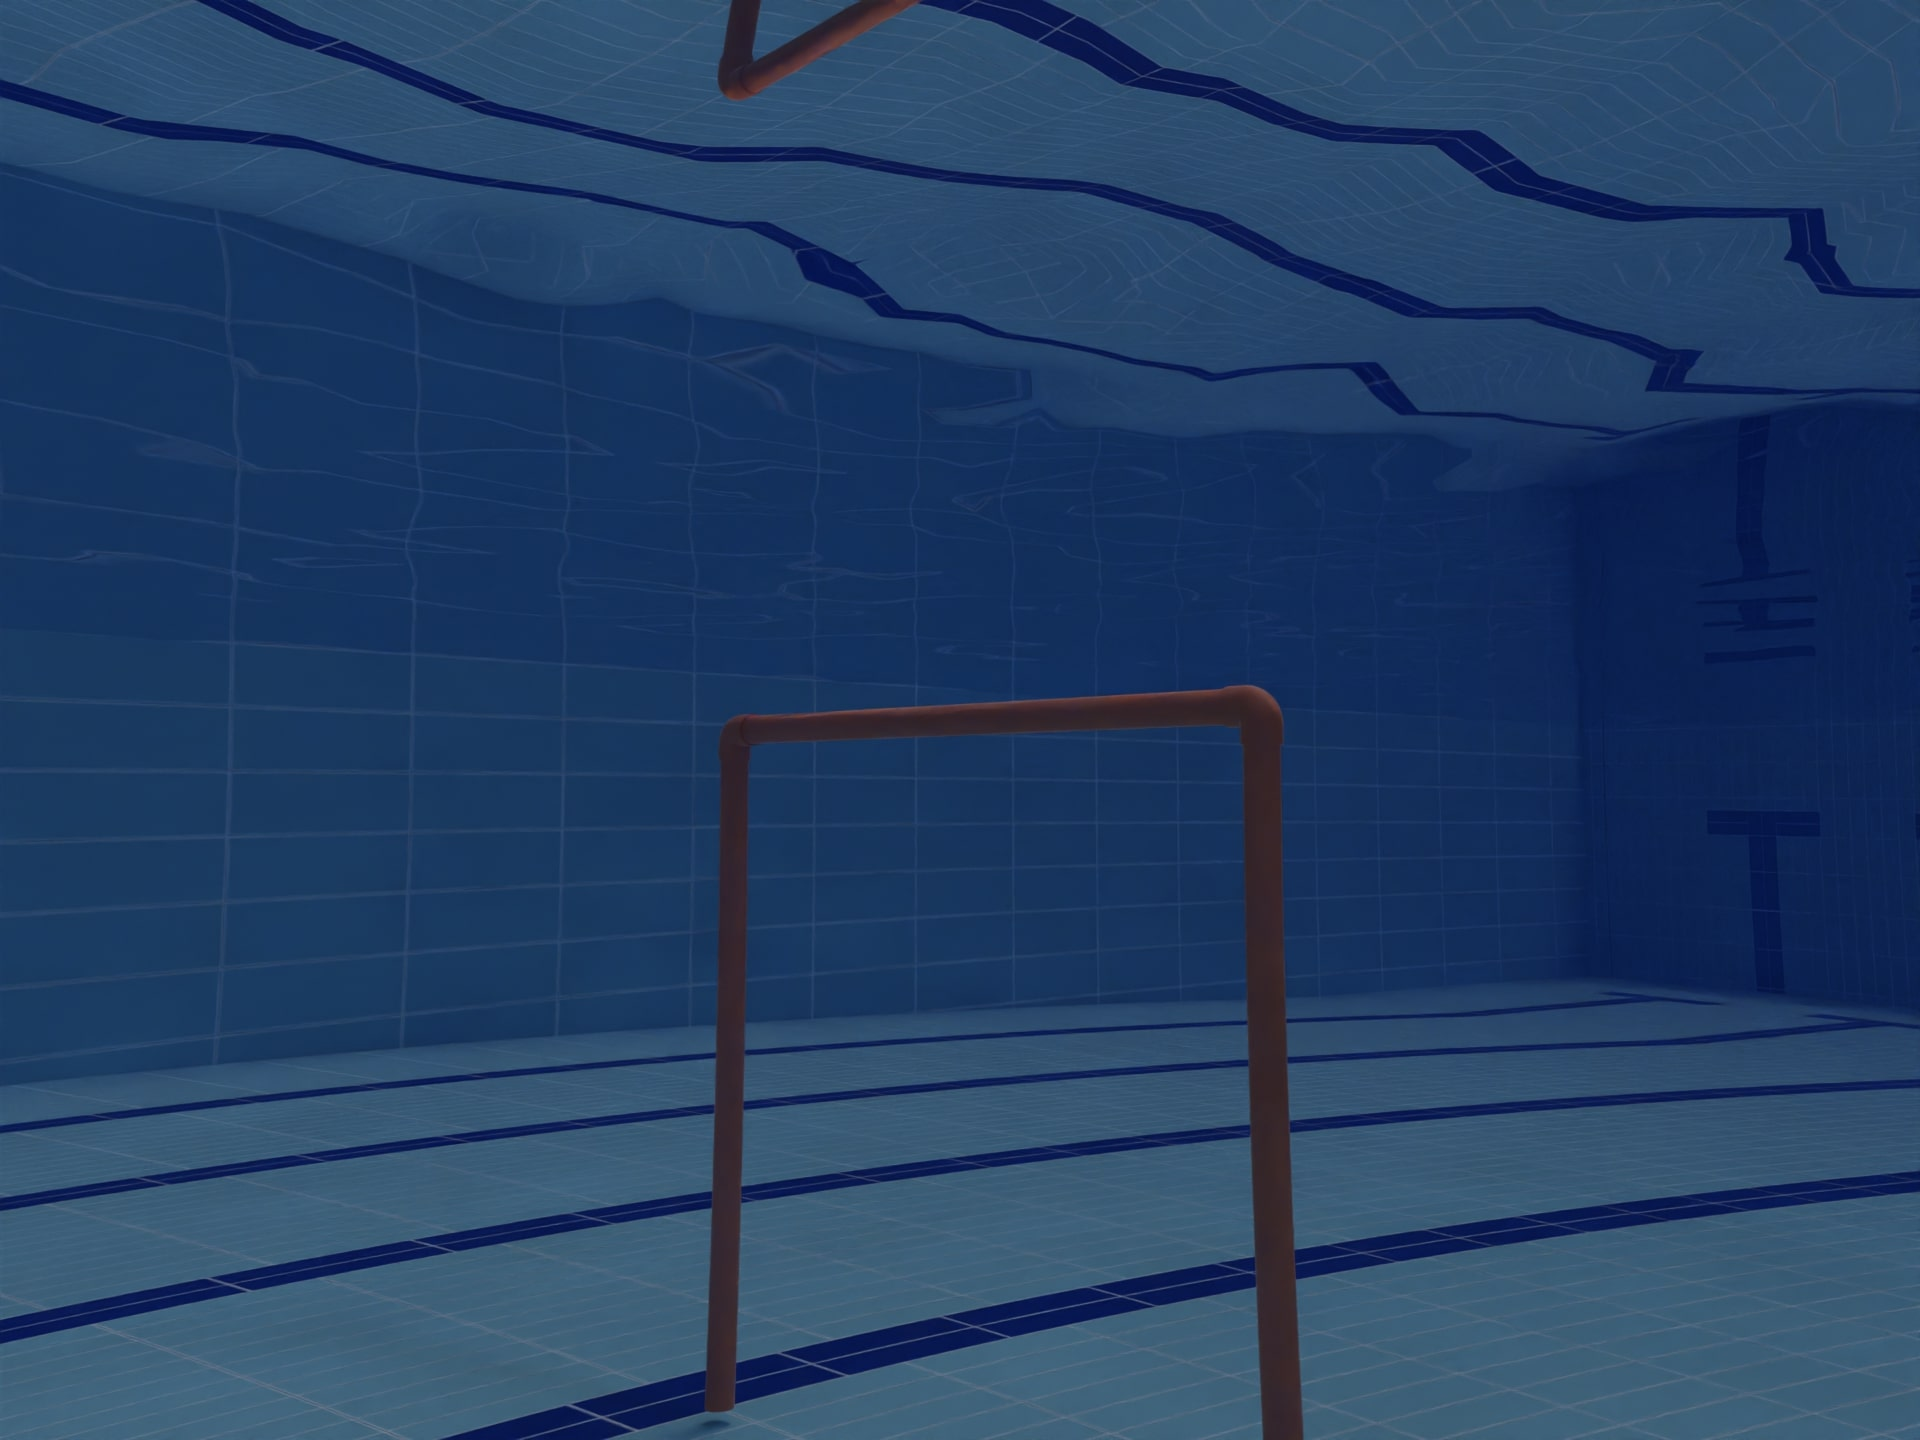gate: (674, 675, 1377, 1440)
